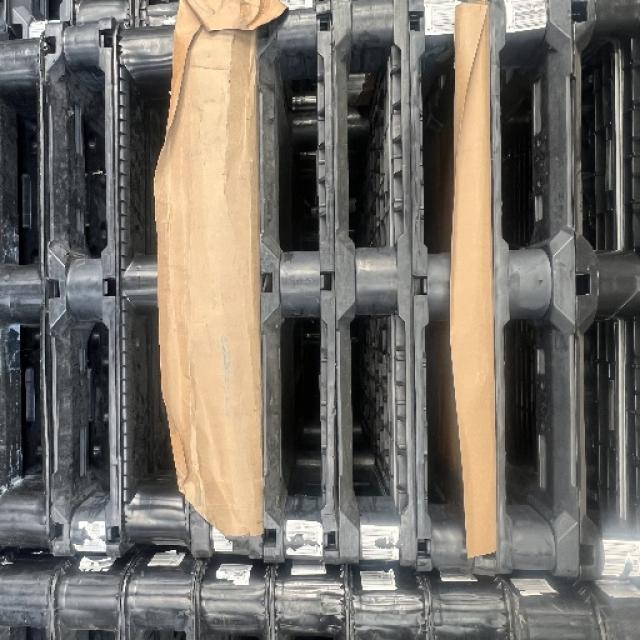igps: (102, 10, 218, 577), (404, 0, 505, 582), (491, 0, 587, 583), (326, 0, 422, 576), (256, 0, 348, 575), (38, 9, 133, 564), (564, 0, 640, 592), (0, 25, 58, 570)
